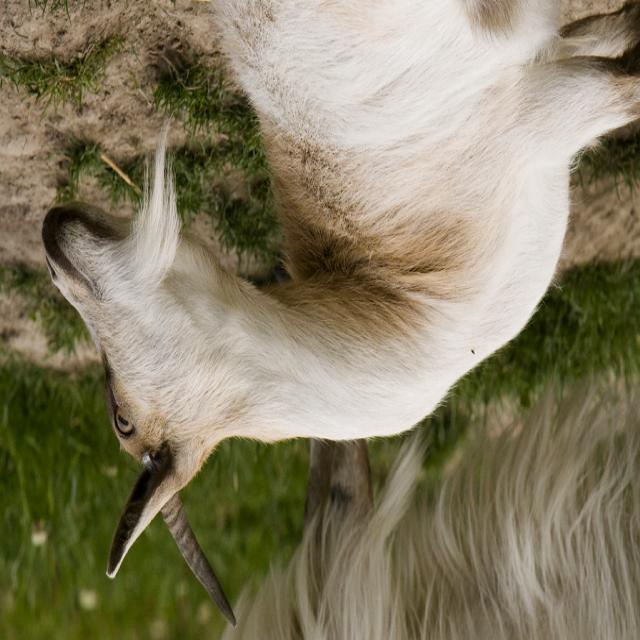Goat: (42, 2, 640, 629), (221, 365, 640, 640)
